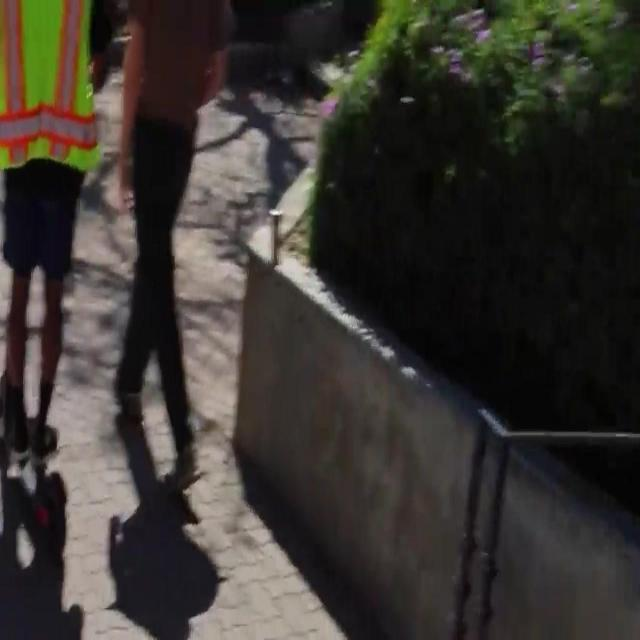Reflective-Jacket: (0, 0, 113, 209)
